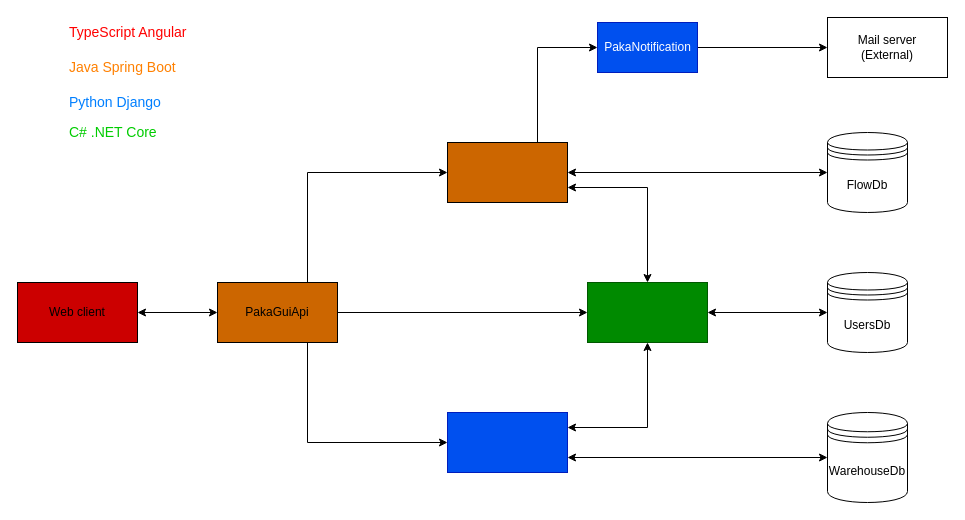
This 965x520 diagram has some shape labels left out. Here are the shapes that lost their labels. From the top down, the centre of each, then its label:
At (507,172): "PakaFlow".
At (647,312): "PakaUsers".
At (507,442): "PakaWarehouse".
